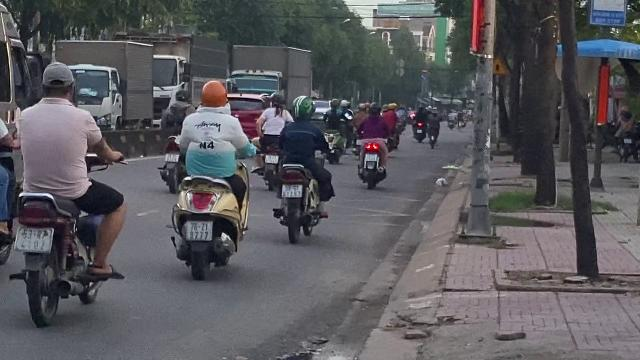helmet: (200, 80, 228, 110), (290, 96, 314, 120), (270, 93, 286, 109)
licenseplate: (16, 228, 52, 252), (186, 220, 210, 240), (282, 184, 302, 196)
motorcyclist: (1, 62, 131, 326), (162, 78, 254, 280)
nohelmet: (38, 62, 76, 102)
